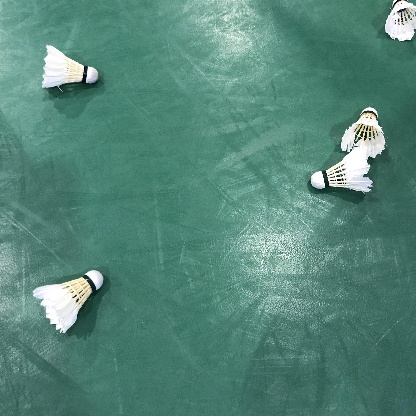ball_single: (32, 270, 104, 333), (311, 146, 373, 192), (42, 45, 98, 88), (341, 107, 386, 158), (385, 0, 416, 42)
